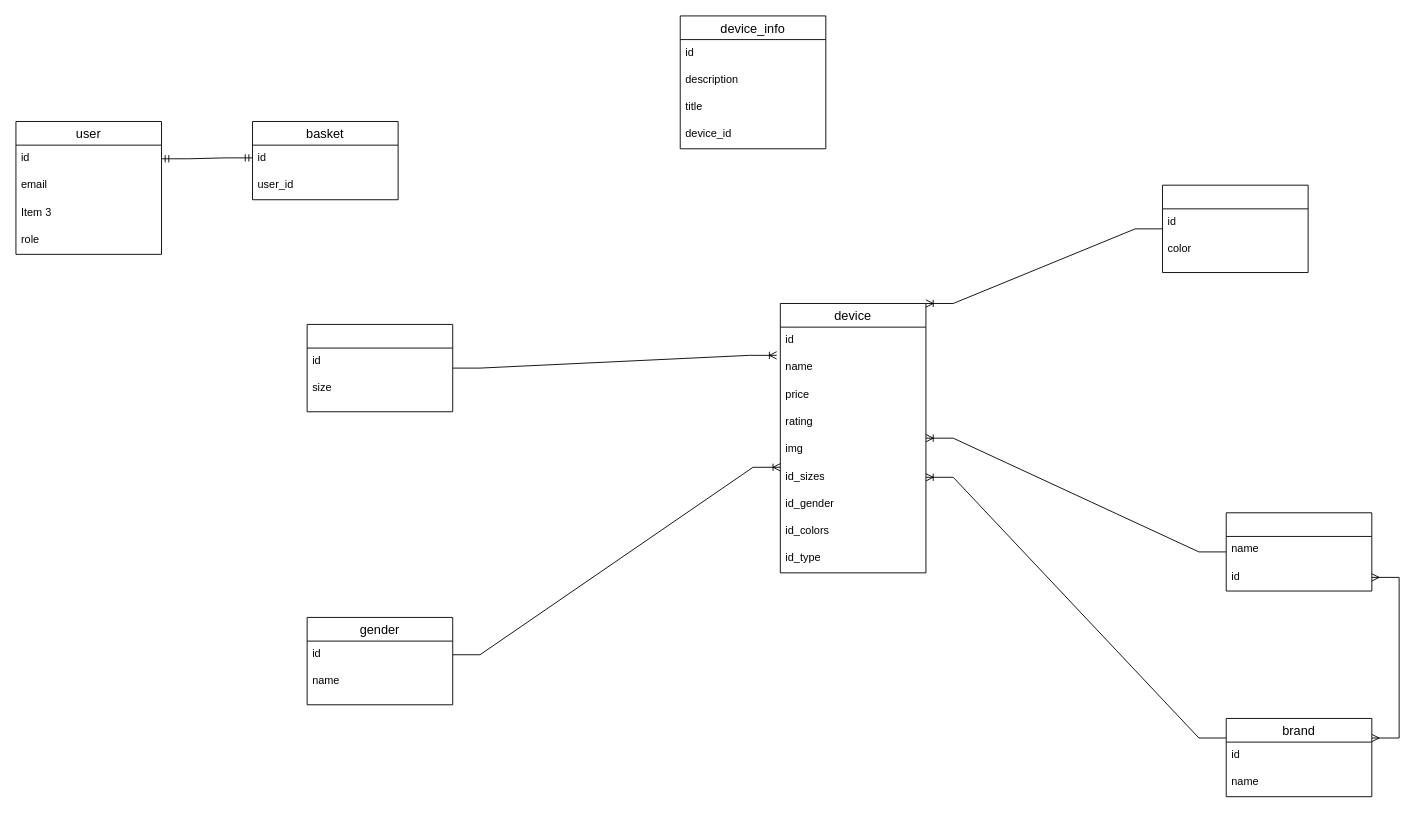
The diagram is 1423 pixels wide and 815 high, and some of its shapes have lost their labels. The shapes that lost their labels are listed below. From the top down, each one's box as (x1, y1, x2, y2) in pixels, then its label:
(1162, 184, 1308, 273): colors
(306, 324, 453, 412): sizes
(1225, 512, 1372, 591): type
